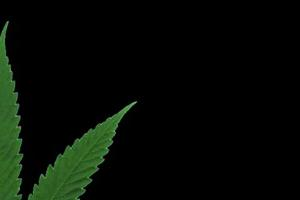cannabis: (0, 14, 207, 199)
